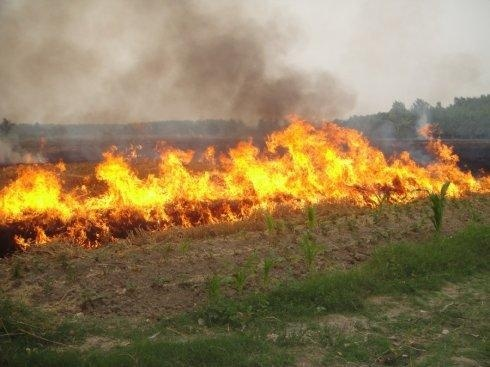fire: (12, 109, 490, 235)
